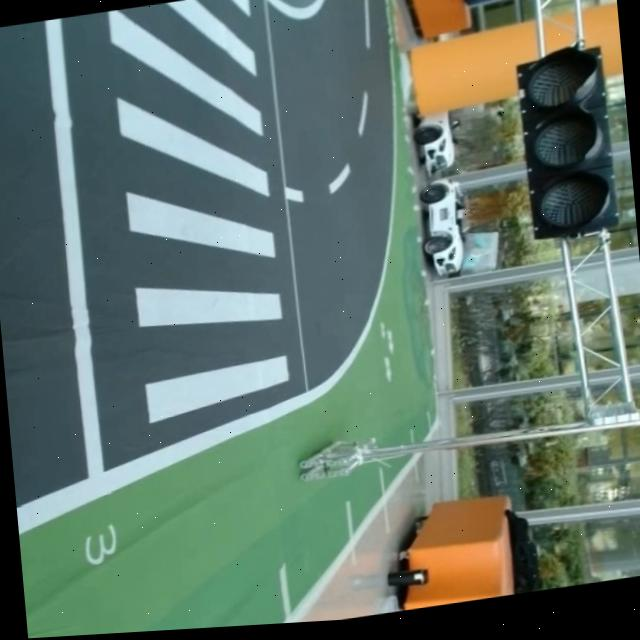traffic-light: (516, 40, 622, 247)
